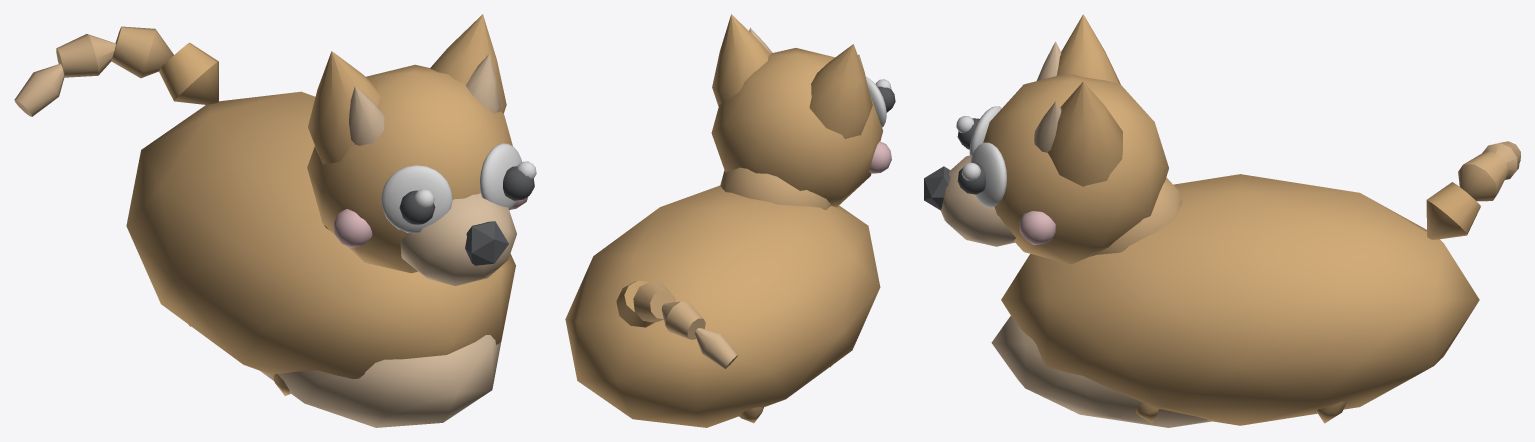
Rendered from felis-catus.glb.
3 renders of one model, left to right at view 1: azimuth 30°, elevation 25°; view 2: azimuth 150°, elevation 25°; view 3: azimuth 270°, elevation 25°, orthographic. The views are drawn at different scales.
Visible parts, largest first — view 1: body, head, belly, snout, earr, tail0, face-eye-r, earl, tail1, tail2, face-eye-l, tail3 (+6 smaller); view 2: body, head, earr, earl, neck, tail1, tail2, tail3, tail0, face-blush--1, face-eye-r; view 3: body, head, belly, earl, snout, tail0, earr, tail1, neck, face-eye-l, face-blush-1, earinl (+3 smaller).
Part boxes in pixels (x1,y1,x2,y2): body: (126,91,515,378); head: (307,64,512,273); belly: (259,335,501,427); snout: (400,193,516,285); earr: (308,51,380,164); tail0: (159,42,218,104); face-eye-r: (381,165,452,233); earl: (430,14,506,113); tail1: (111,26,173,78); tail2: (56,34,115,77); face-eye-l: (479,143,521,210); tail3: (14,63,64,116); body: (565,185,880,427); head: (711,48,882,207); earr: (809,44,872,138); earl: (712,14,770,106); neck: (720,167,831,209); tail1: (633,281,675,322); tail2: (661,301,705,339); tail3: (695,328,737,369); tail0: (616,280,654,327); face-blush--1: (869,141,891,173); face-eye-r: (865,76,886,127); body: (1001,174,1479,425); head: (983,74,1168,264); belly: (991,316,1211,427); earl: (1047,81,1122,186); snout: (941,155,1015,246); tail0: (1426,182,1480,239); earr: (1056,14,1120,84); tail1: (1458,151,1508,201); neck: (1090,177,1182,256); face-eye-l: (970,142,1006,207); face-blush-1: (1019,211,1055,244); earinl: (1034,101,1061,152).
Bounding box in the file's own units: 0.584 × 0.7256 × 1.07.
